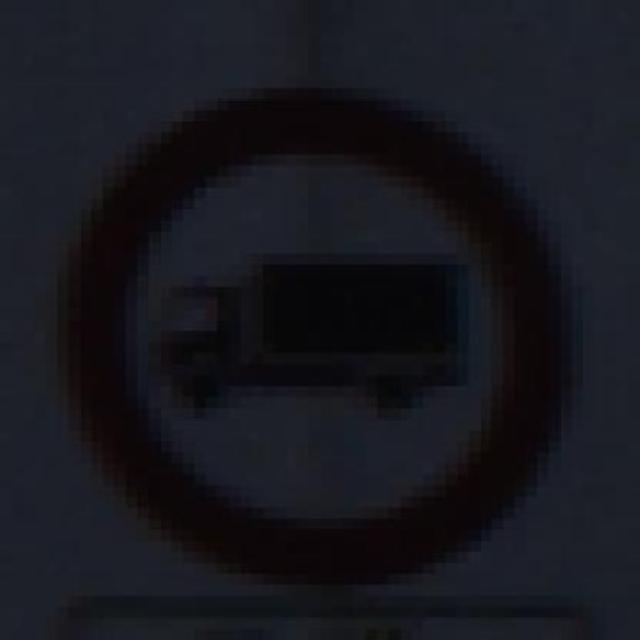Truck traffic is prohibited: (45, 66, 606, 596)
